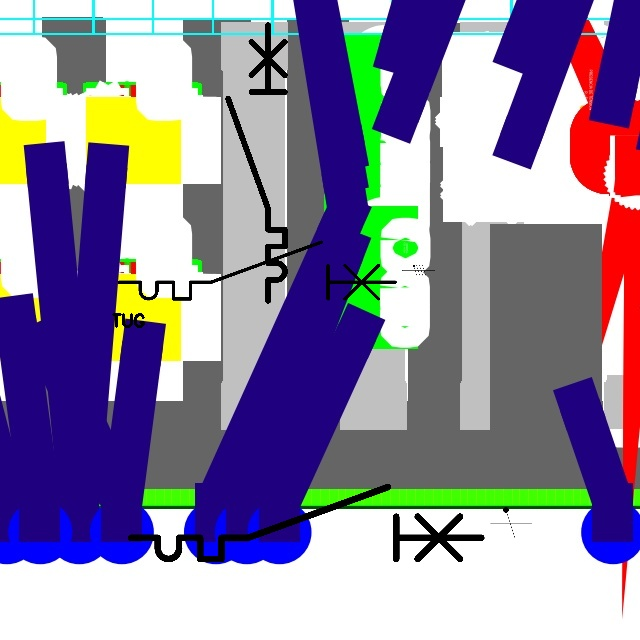interruptor_termomagnetico: (122, 478, 490, 568), (112, 235, 402, 306), (221, 18, 292, 308)
